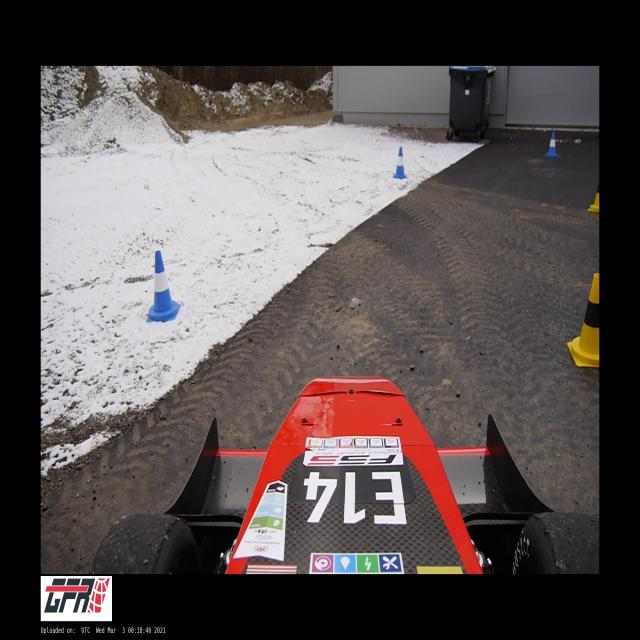blue_cone: (147, 251, 181, 322), (393, 147, 408, 179), (544, 131, 559, 157)
yellow_cone: (567, 273, 599, 367), (587, 179, 599, 212)
